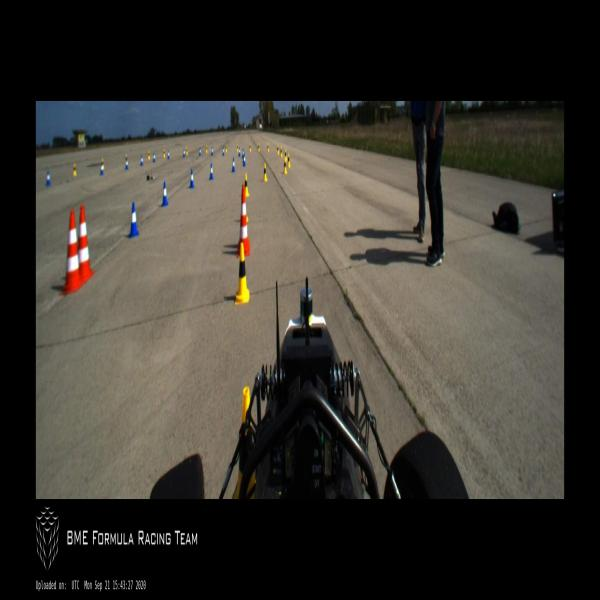blue_cone: (128, 202, 138, 238), (162, 181, 169, 206), (209, 162, 214, 180), (190, 169, 194, 188), (46, 172, 50, 185), (100, 163, 104, 176), (232, 158, 235, 172), (140, 156, 144, 166), (243, 154, 245, 166), (126, 158, 128, 169), (242, 148, 244, 158), (199, 147, 201, 156), (211, 147, 213, 156), (222, 147, 224, 156), (238, 147, 240, 156), (153, 153, 155, 161), (183, 149, 185, 157), (168, 150, 169, 159)
large_orange_cone: (59, 208, 82, 295), (78, 205, 96, 285), (237, 185, 250, 255)
yellow_cone: (231, 386, 260, 498), (235, 242, 250, 305), (244, 173, 249, 197), (263, 162, 267, 182), (283, 157, 287, 175), (287, 153, 291, 168), (73, 163, 77, 176), (101, 157, 105, 170), (276, 144, 279, 156), (284, 149, 286, 162), (280, 146, 282, 157), (125, 153, 127, 164), (148, 150, 150, 159), (186, 147, 188, 156), (266, 144, 268, 152), (163, 149, 165, 157), (206, 145, 208, 153), (225, 144, 227, 152), (236, 143, 238, 151), (249, 144, 251, 152), (258, 143, 260, 151)
